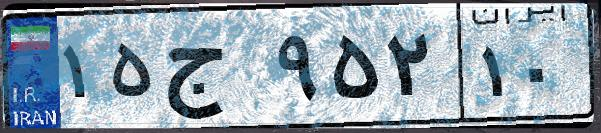0: (525, 38, 570, 115)
1: (57, 26, 110, 100), (475, 38, 525, 113)
2: (385, 28, 445, 110)
5: (330, 28, 385, 110), (110, 28, 158, 98)
9: (270, 28, 330, 110)
ج: (158, 20, 270, 120)
